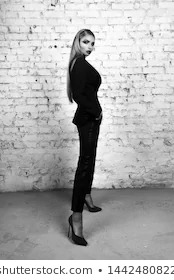S_W_pants: (68, 116, 100, 218)
